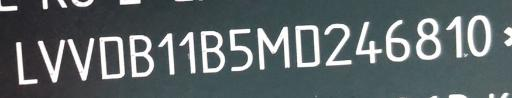letter: (254, 24, 292, 70), (322, 21, 354, 67), (66, 36, 96, 82), (36, 37, 66, 82), (354, 20, 384, 65), (98, 33, 126, 80), (384, 17, 412, 63), (293, 23, 321, 69), (227, 26, 255, 72), (128, 33, 156, 79), (11, 39, 39, 84), (464, 14, 492, 59), (414, 16, 442, 61), (198, 29, 226, 73), (444, 13, 466, 59), (156, 31, 178, 77), (177, 30, 199, 75)
